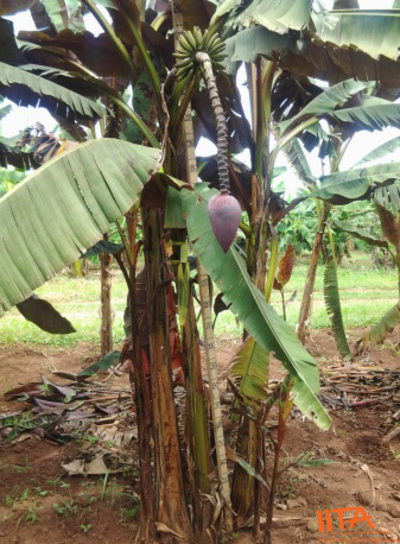bananaHand: (169, 24, 237, 95)
